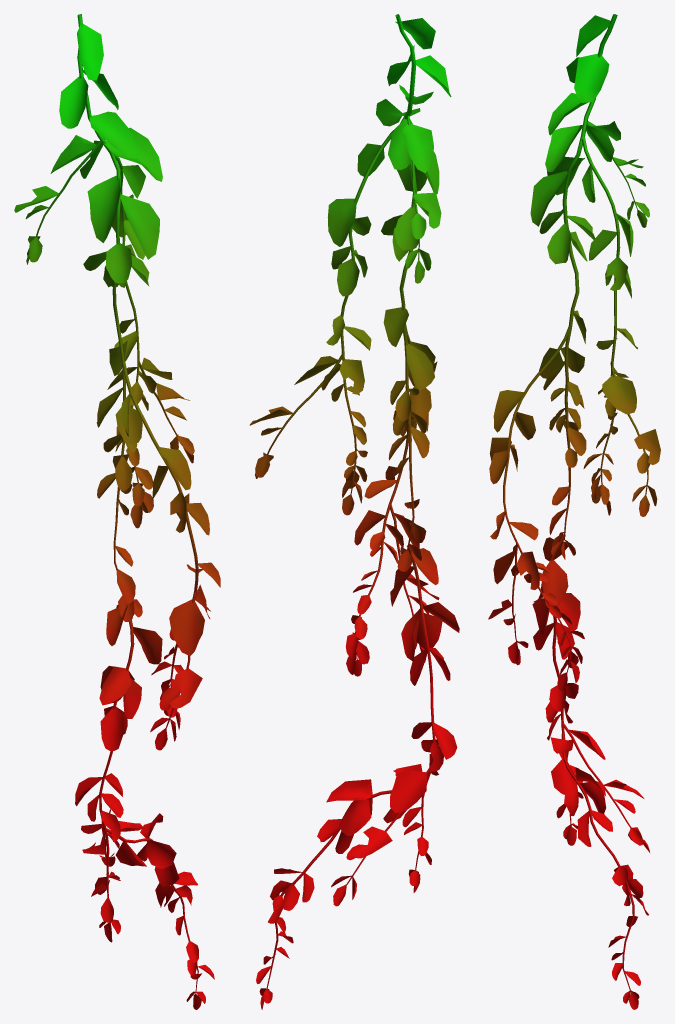
File: Var9_LOD1.fbx
3 views of the same model, side by side, from view 1: azimuth 30°, elevation 25°; view 2: azimuth 150°, elevation 25°; view 3: azimuth 270°, elevation 25° (orthographic). The views are drawn at different scales.
Visible parts, largest first — view 1: _6j44_Var9_LOD1; view 2: _6j44_Var9_LOD1; view 3: _6j44_Var9_LOD1.
Part boxes in pixels (box(x1,y1,x2,y2)): _6j44_Var9_LOD1: box(14, 14, 220, 1009); _6j44_Var9_LOD1: box(249, 14, 459, 1009); _6j44_Var9_LOD1: box(488, 14, 660, 1009).
Size of the model in its own units: 29.03 by 152 by 25.42.
